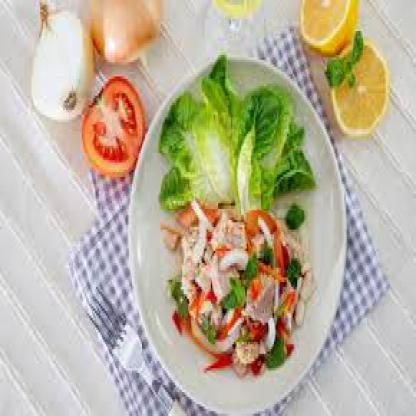Yum: (149, 70, 336, 412)
